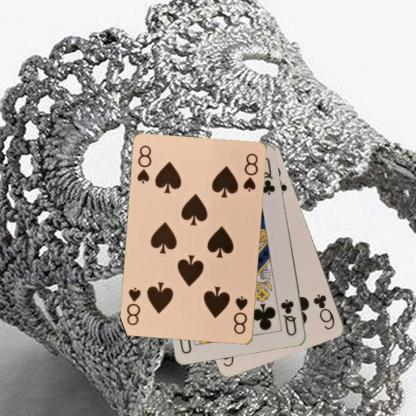6c: (311, 291, 336, 331)
8s: (231, 294, 249, 336), (135, 143, 153, 185)
Qc: (279, 297, 298, 337)
